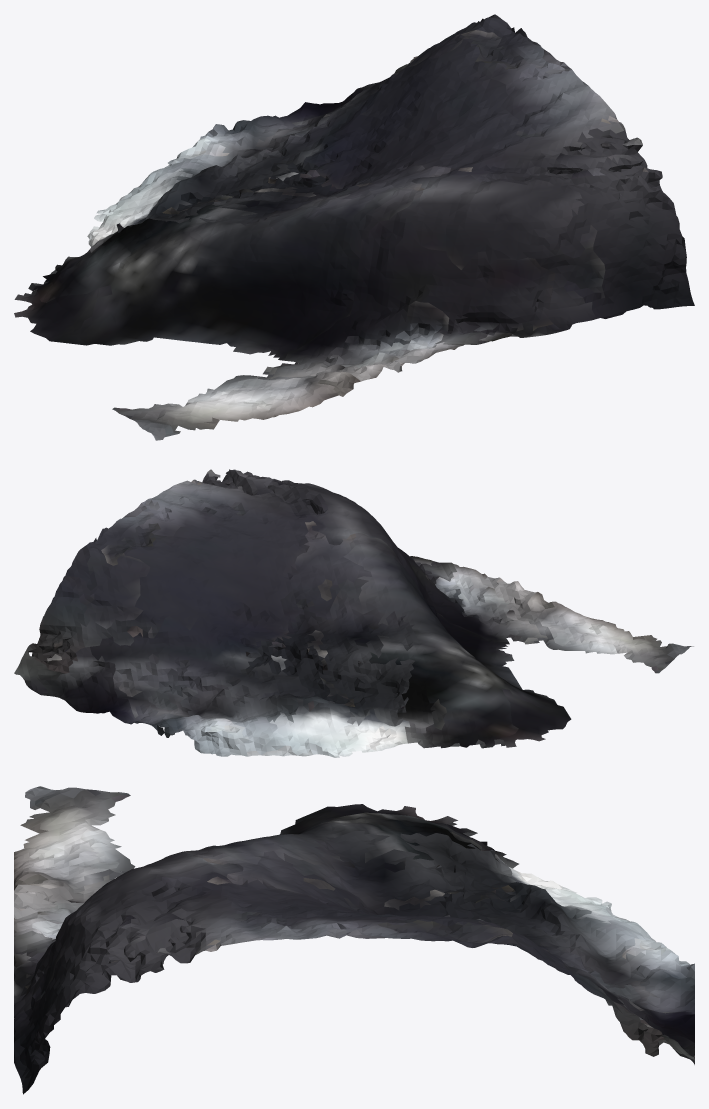
The picture shows the model from 3 angles, top to bottom: view 1: azimuth 30°, elevation 25°; view 2: azimuth 150°, elevation 25°; view 3: azimuth 270°, elevation 25°; orthographic projection. The views are drawn at different scales.
Bounding box in the file's own units: 0.6429 × 0.1623 × 0.5851.
1 material, 1 textured.
